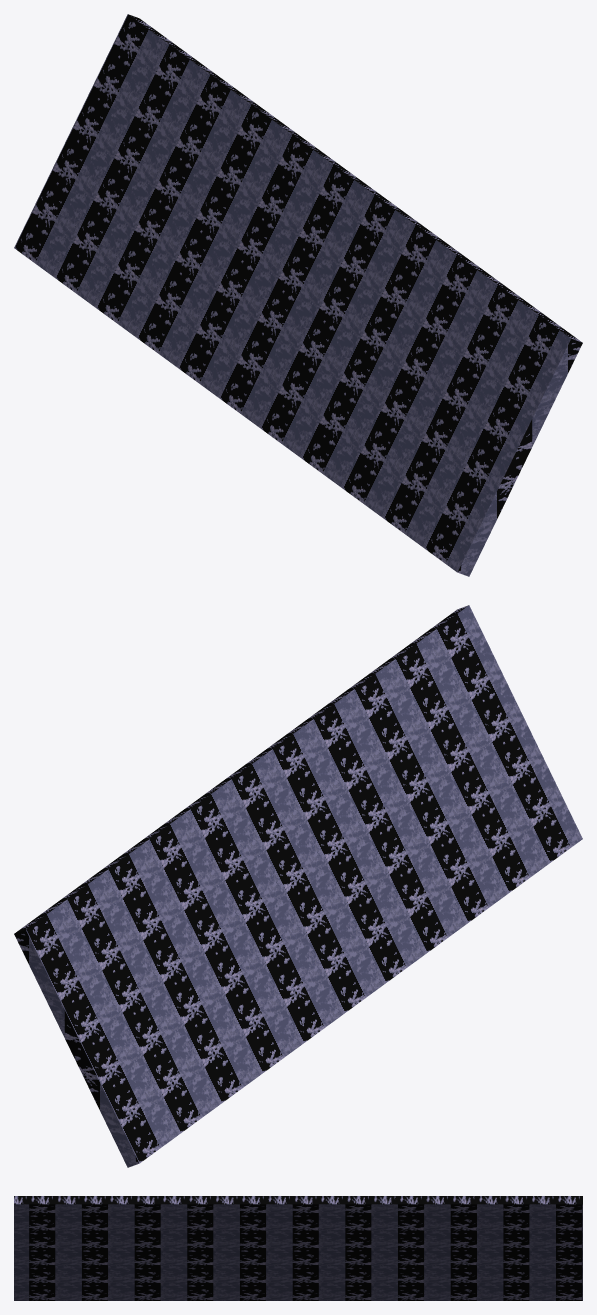
File: Map_brush.glb
3 renders of one model, top to bottom at view 1: azimuth 30°, elevation 25°; view 2: azimuth 150°, elevation 25°; view 3: azimuth 270°, elevation 25°, orthographic. The views are drawn at different scales.
Parts seen in each view (by area): view 1: Map; view 2: Map; view 3: Map.
Boxes of the visible parts, x1,y1,x2,y2 form: Map: (14,14,582,576); Map: (14,605,582,1167); Map: (14,1196,582,1300).
Size of the model in its own units: 452 by 734 by 2765.
Materials: 1 (1 with a texture image).
